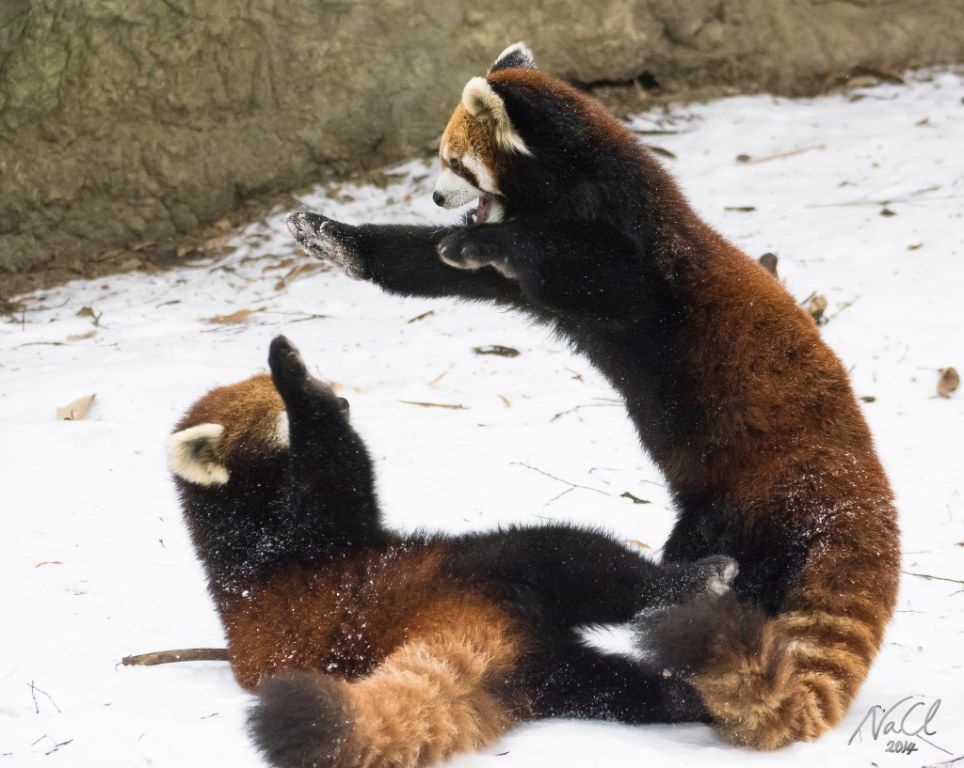red_panda: (404, 69, 891, 738), (156, 339, 588, 762)
